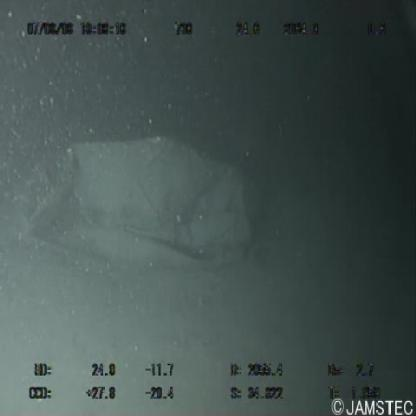Rác: (9, 129, 272, 294)
